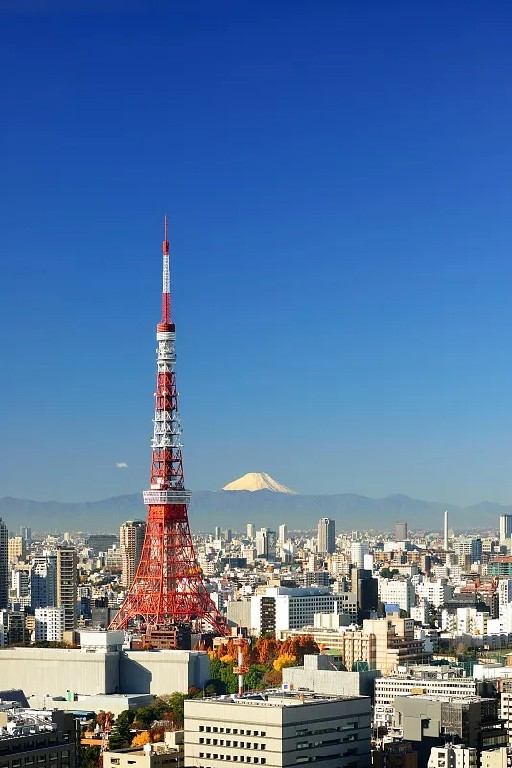Tokyo: (105, 208, 230, 636)
